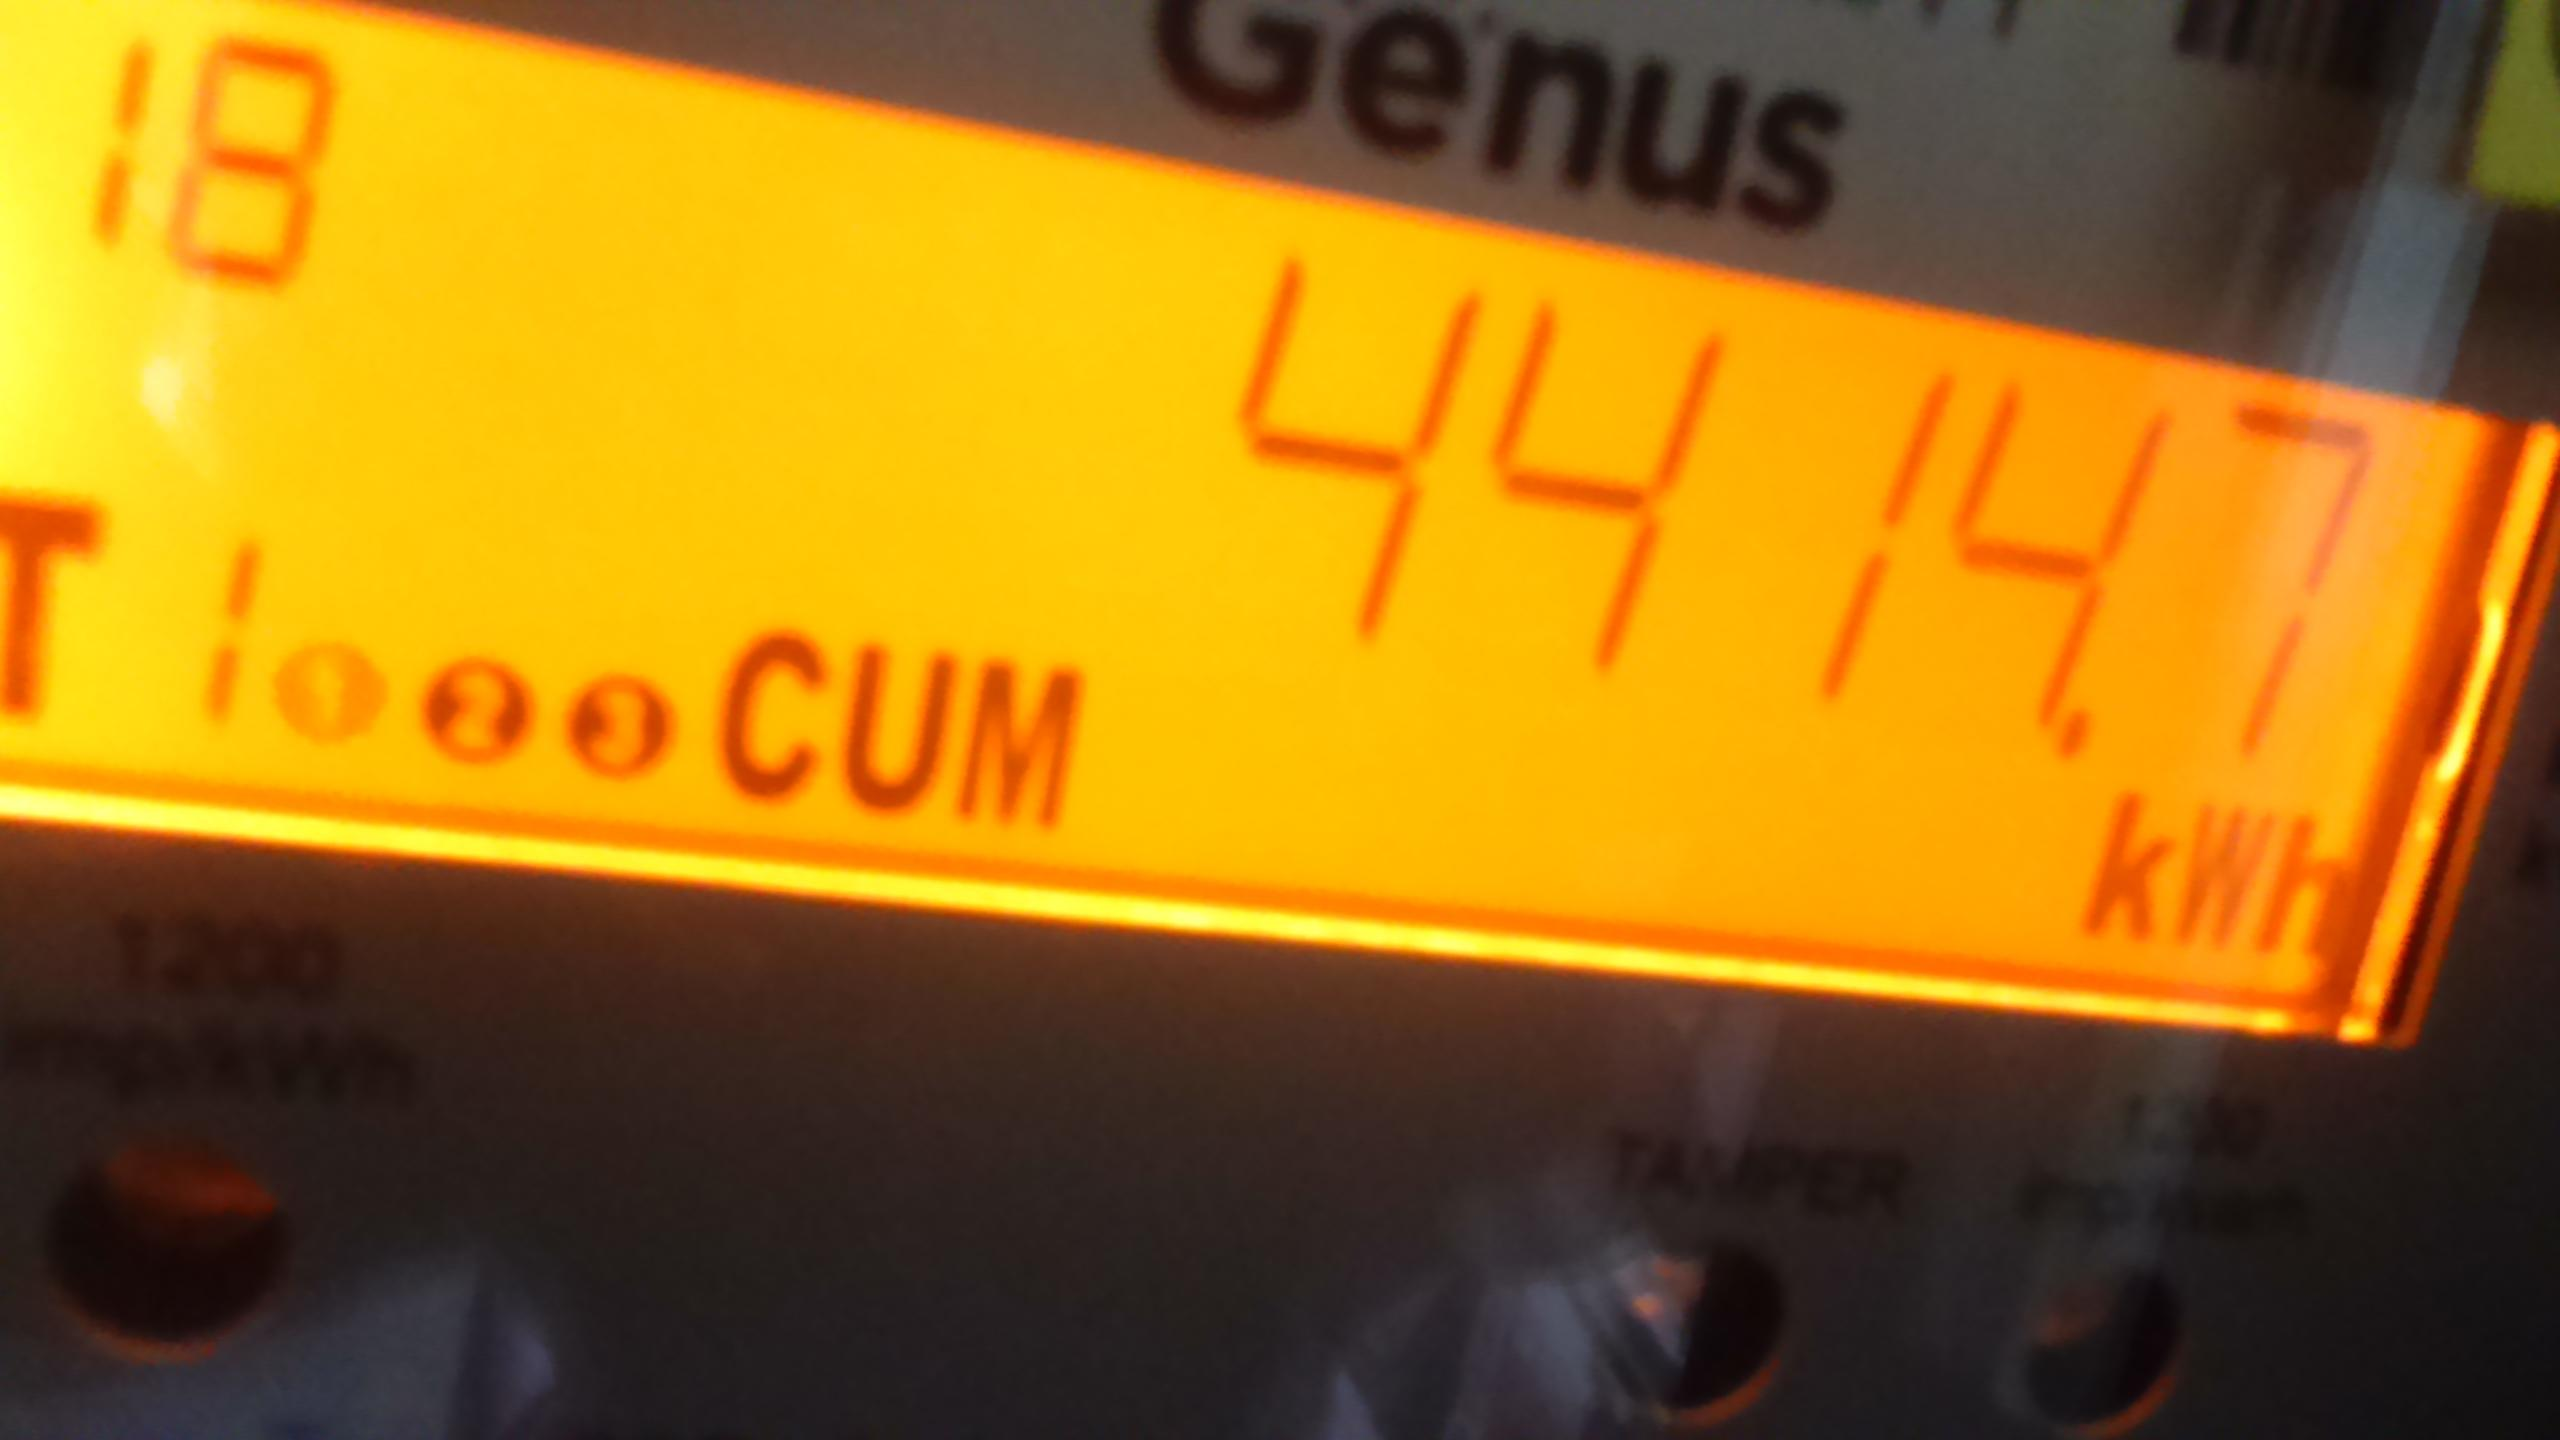.: (2057, 772, 2374, 990)
0: (2038, 687, 2135, 789)
2: (1760, 329, 2003, 745)
5: (1454, 278, 1792, 723), (1190, 223, 1523, 672), (1924, 367, 2196, 763)
8: (2157, 343, 2412, 772)
